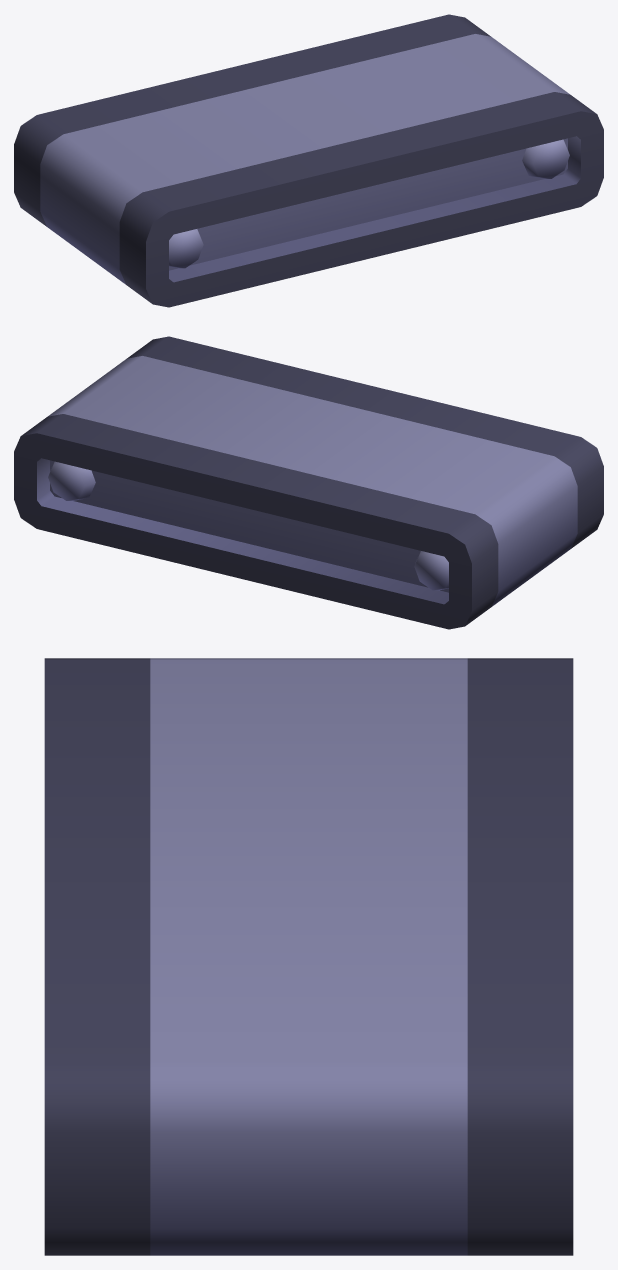
Rendered from kenney-factory-conveyor-long-stripe.glb.
The picture shows the model from 3 angles, top to bottom: view 1: azimuth 30°, elevation 25°; view 2: azimuth 150°, elevation 25°; view 3: azimuth 270°, elevation 25°; orthographic projection. The views are drawn at different scales.
Visible parts, largest first — view 1: conveyor-long-stripe; view 2: conveyor-long-stripe; view 3: conveyor-long-stripe.
Boxes of the visible parts, box(x1,y1,x2,y2) form: conveyor-long-stripe: box(14, 14, 603, 307); conveyor-long-stripe: box(14, 336, 603, 629); conveyor-long-stripe: box(44, 658, 573, 1255).
Bounding box in the file's own units: 3 × 0.6 × 1.5.
Materials: 1 (1 with a texture image).
